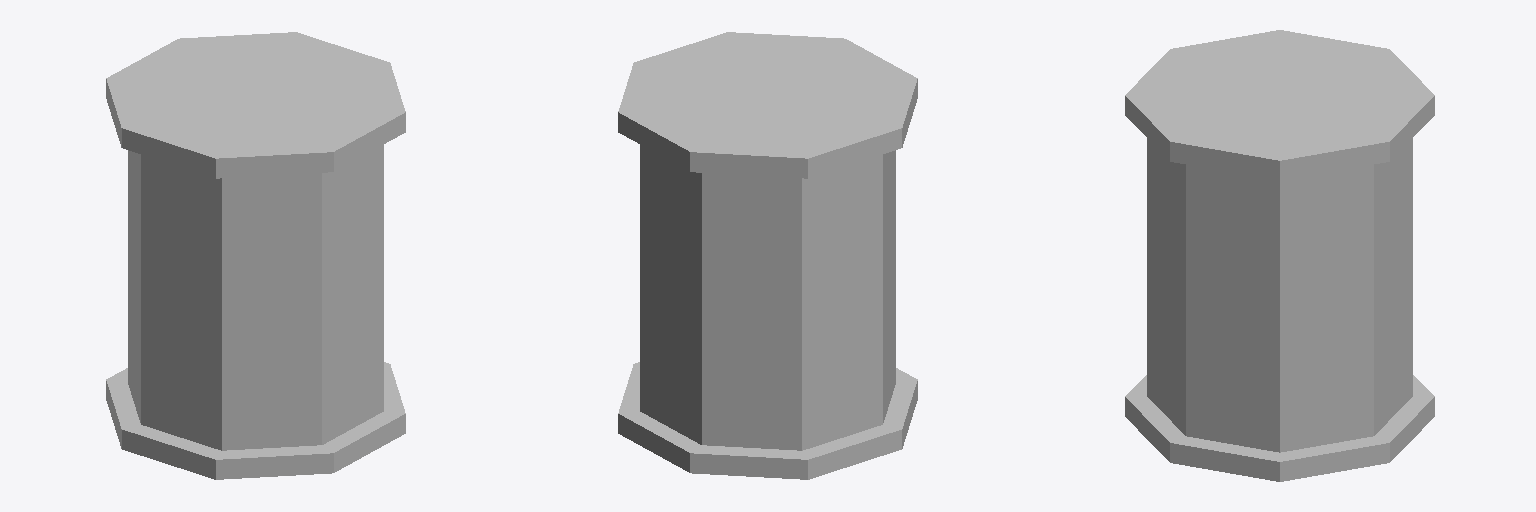
File: pipe_rim.obj
The picture shows the model from 3 angles: view 1: azimuth 30°, elevation 25°; view 2: azimuth 150°, elevation 25°; view 3: azimuth 270°, elevation 25°; orthographic projection.
Visible parts, largest first — view 1: Side, Top; view 2: Side, Top; view 3: Side, Top.
Part boxes in pixels (bbox=[...]): Side: bbox=[106, 79, 405, 479]; Top: bbox=[106, 32, 405, 459]; Side: bbox=[618, 79, 917, 479]; Top: bbox=[618, 32, 917, 459]; Side: bbox=[1125, 96, 1434, 481]; Top: bbox=[1125, 30, 1434, 461].
Size of the model in its own units: 0.875 by 1 by 0.875.